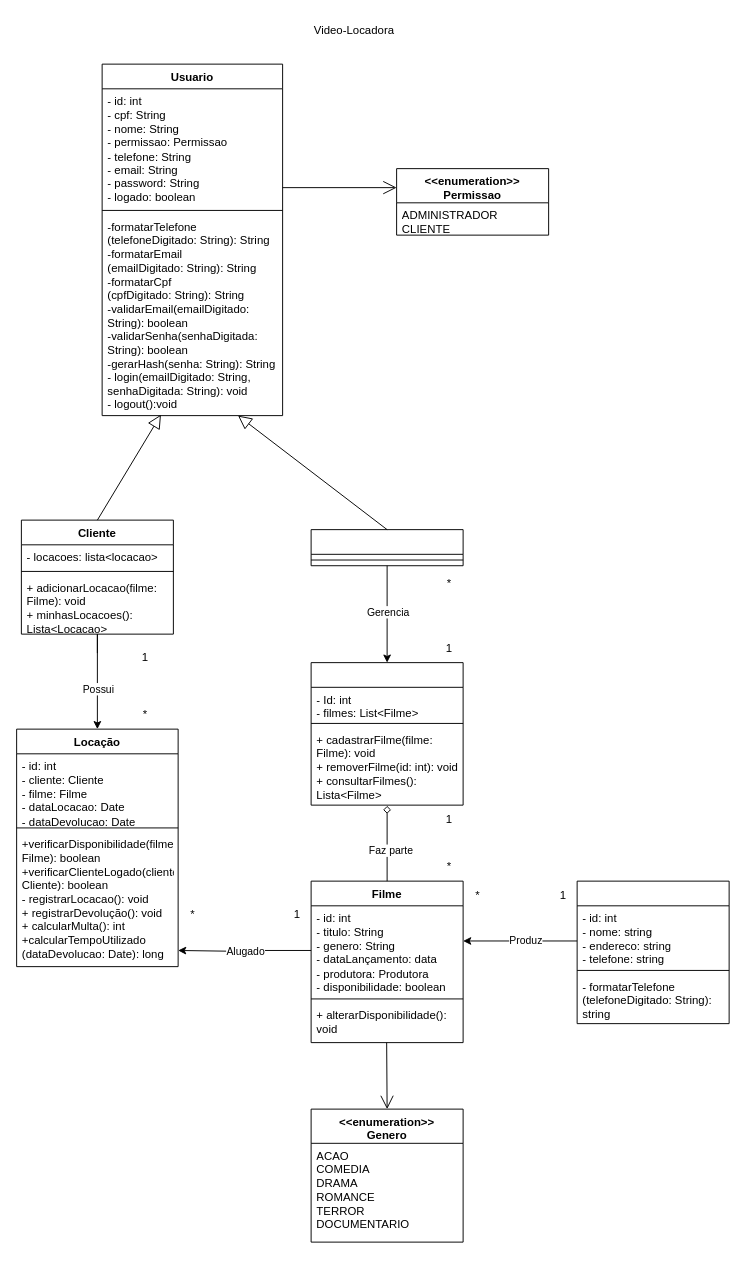
Image size: 746x1261. Some labels were removed from this diagram. Each missing label, with the box of its shape:
Administrador: (310, 529, 463, 566)
Catálogo: (310, 662, 463, 805)
Produtora: (576, 880, 729, 1024)
